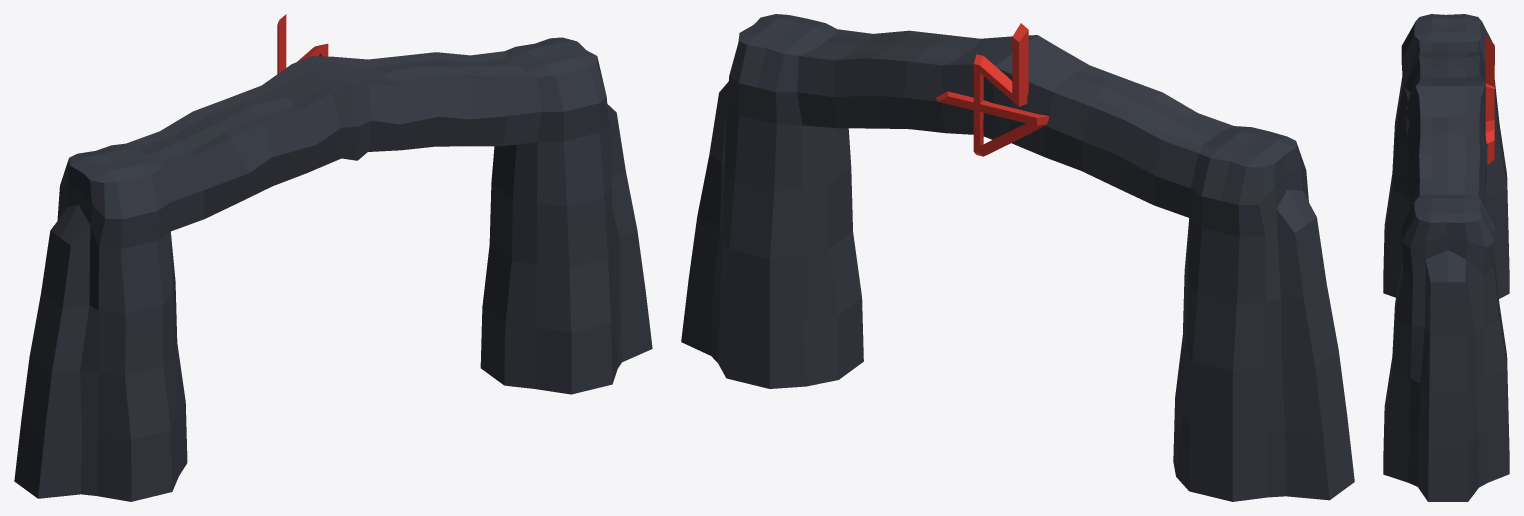
Rendered from Arch_001.fbx.
The picture shows the model from 3 angles, left to right: view 1: azimuth 30°, elevation 25°; view 2: azimuth 150°, elevation 25°; view 3: azimuth 270°, elevation 25°; orthographic projection. The views are drawn at different scales.
Visible parts, largest first — view 1: Arche; view 2: Arche; view 3: Arche.
Boxes of the visible parts, x1=… form: Arche: x1=14, y1=14, x2=652, y2=501; Arche: x1=681, y1=14, x2=1354, y2=501; Arche: x1=1383, y1=14, x2=1509, y2=501.
Bounding box in the file's own units: 1475 × 897 × 311.
